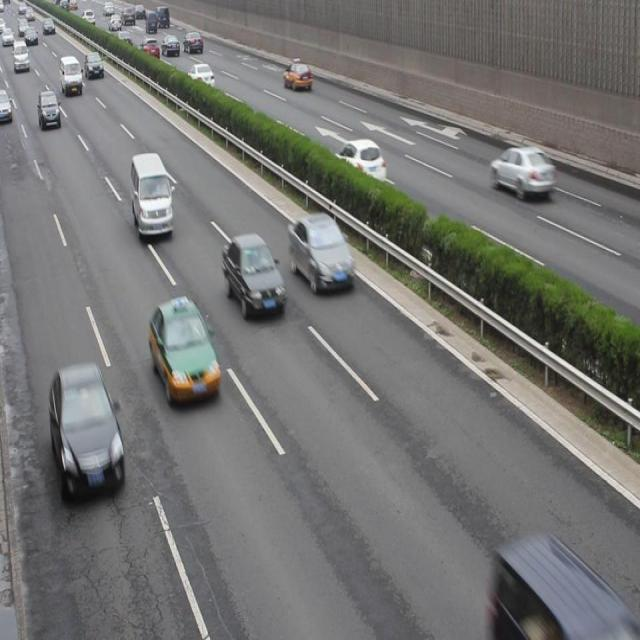car: (494, 537, 640, 640), (50, 364, 125, 500), (150, 300, 220, 402), (222, 232, 285, 318), (288, 215, 353, 293), (488, 143, 554, 197), (337, 140, 386, 186), (38, 91, 62, 131), (283, 60, 311, 92), (187, 64, 214, 90), (84, 52, 104, 80), (182, 31, 202, 54), (140, 39, 160, 61), (162, 36, 179, 58), (1, 88, 12, 122), (117, 31, 132, 47)
truck: (130, 153, 173, 240), (61, 55, 82, 96), (13, 41, 30, 72)
